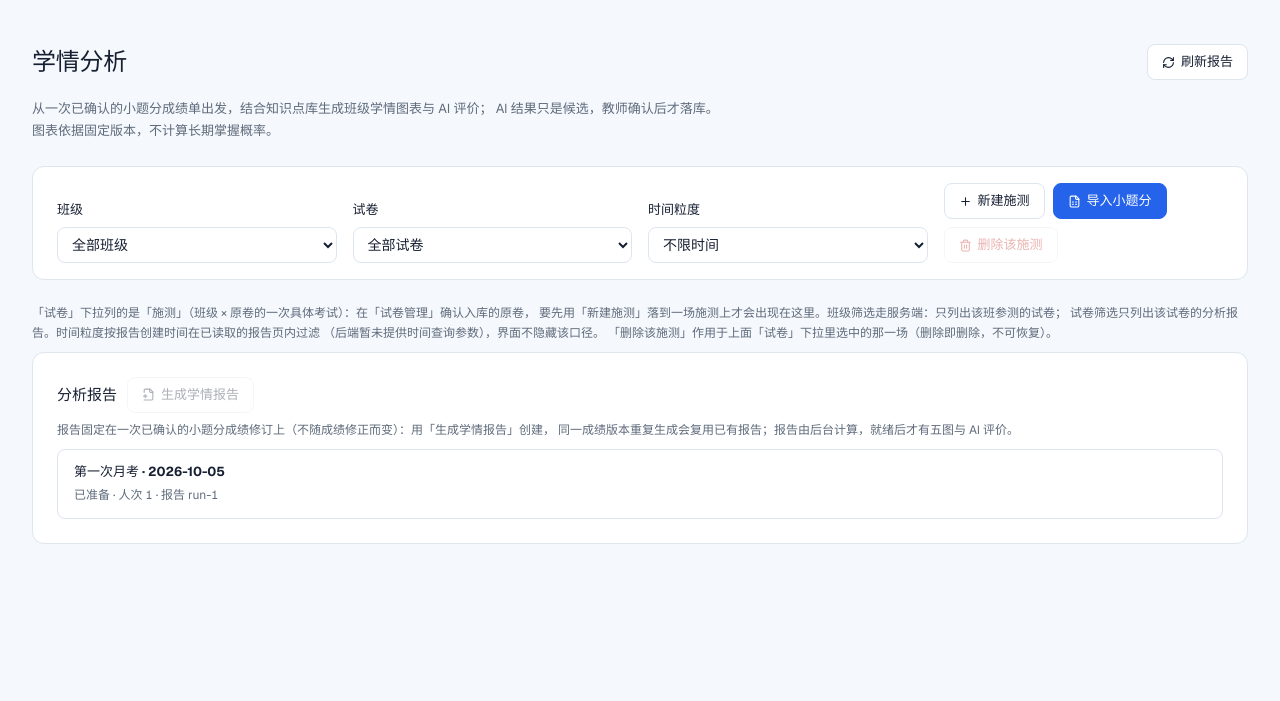
Test: 学情分析工作区 › 「导入小题分」打开面板；未选试卷时提示先选试卷且不发任何导入请求
Click the button "导入小题分": (1110, 201) [1052, 183, 1166, 219]
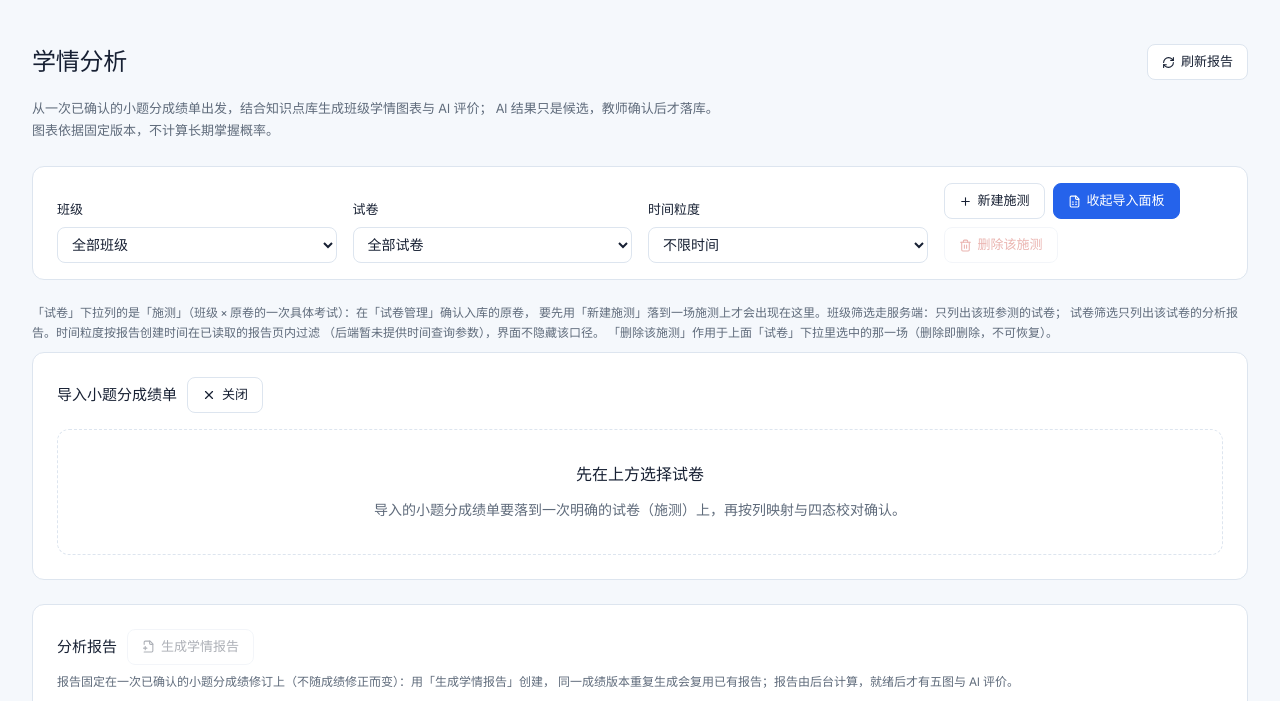
Expected: the element with test id "score-import-panel" is shown, [57, 377, 1223, 555]
Expected: the element with test id "score-import-no-assessment" shows "先在上方选择试卷", [576, 464, 704, 485]
